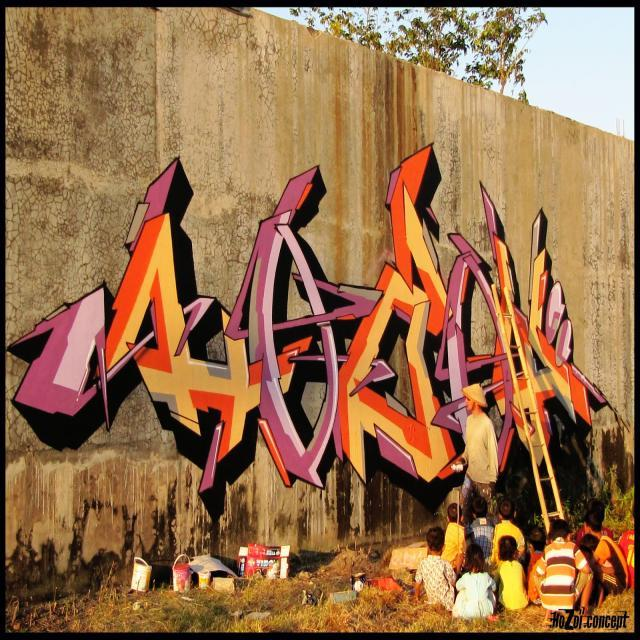-: (6, 142, 610, 519)
